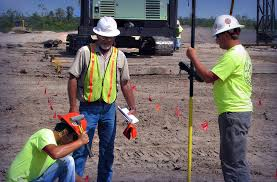Person_wearing_helmet: (206, 10, 243, 37), (88, 12, 120, 38)
